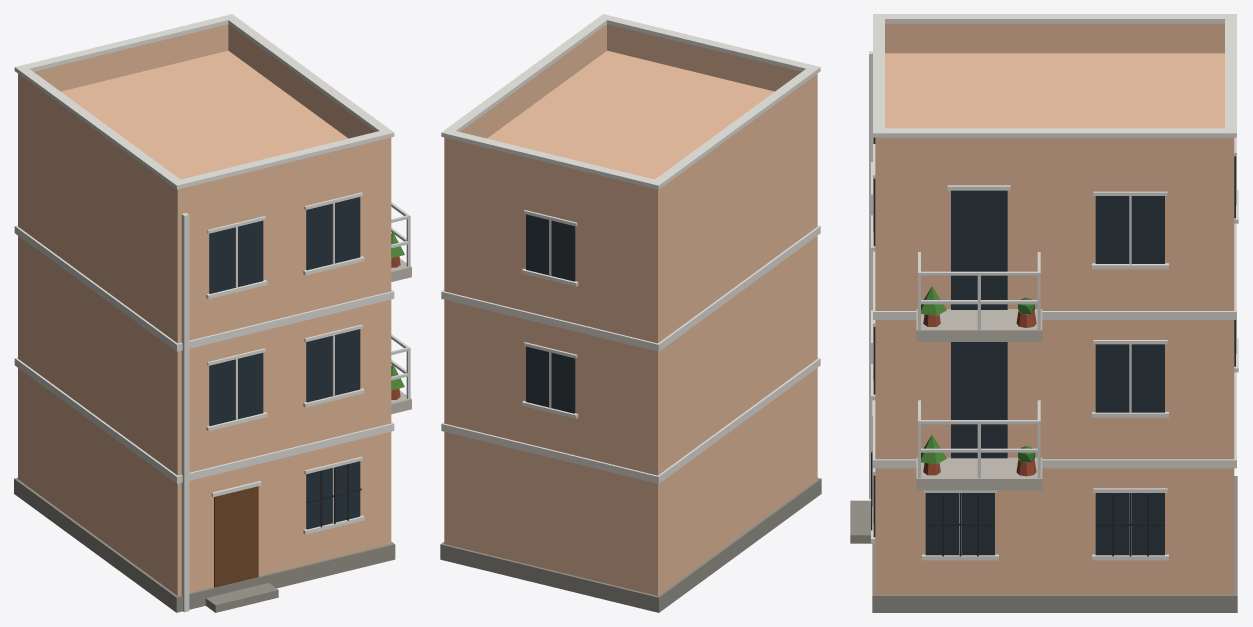
File: BAY_F_Corner_L.glb
3 renders of one model, left to right at view 1: azimuth 30°, elevation 25°; view 2: azimuth 150°, elevation 25°; view 3: azimuth 270°, elevation 25°, orthographic. The views are drawn at different scales.
Parts seen in each view (by area): view 1: BAY_F_Corner_L; view 2: BAY_F_Corner_L; view 3: BAY_F_Corner_L.
Part boxes in pixels (x1,y1,x2,y2): BAY_F_Corner_L: [14, 14, 411, 612]; BAY_F_Corner_L: [440, 14, 821, 612]; BAY_F_Corner_L: [850, 14, 1238, 612].
Size of the model in its own units: 5.25 by 8.4 by 6.17.
Materials: 1 (1 with a texture image).
